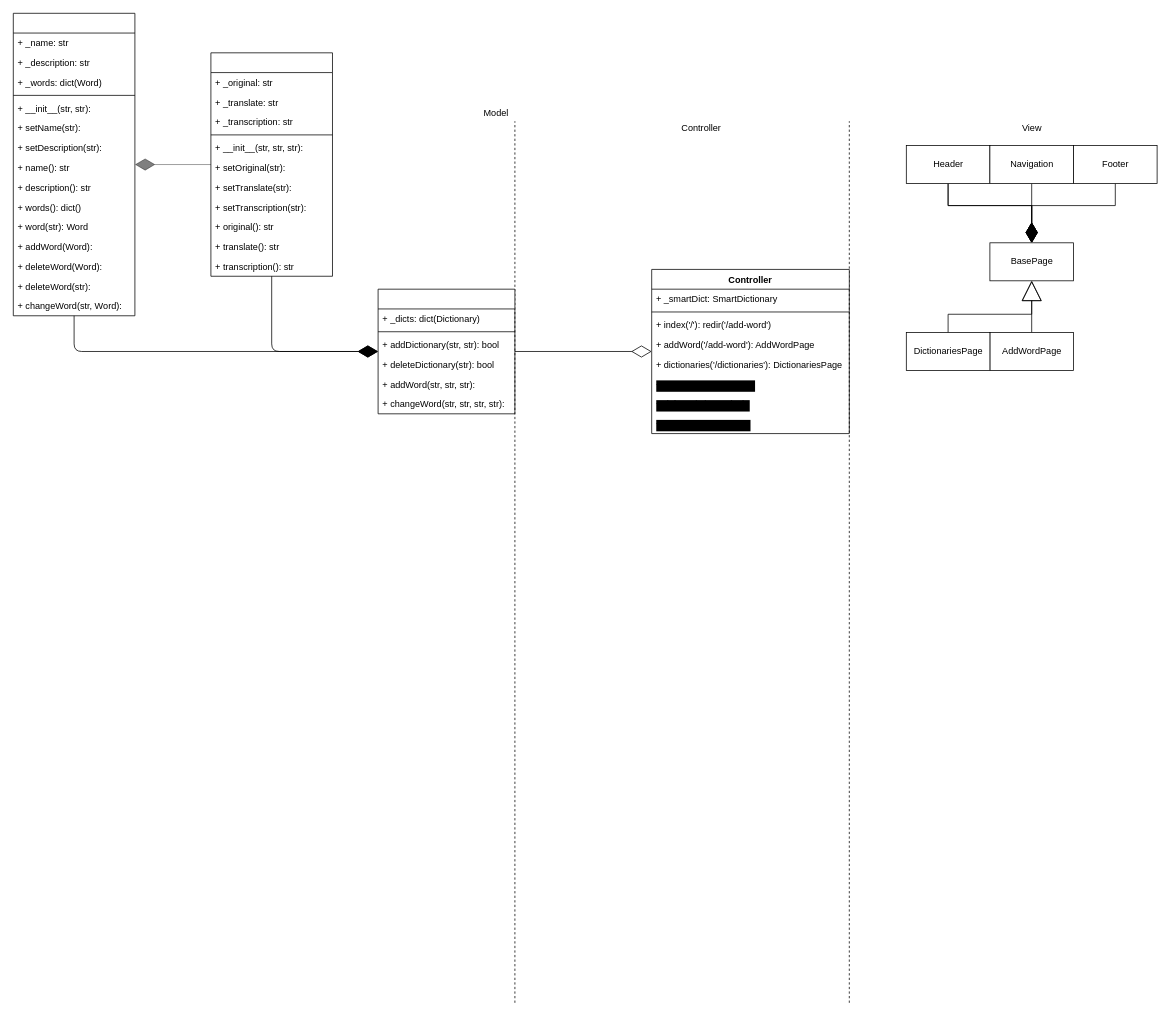
This 1170x1017 diagram has some shape labels left out. Here are the shapes that lost their labels. From the top down, the box of each, then its label:
(13, 13, 135, 316): Dictionary
(210, 52, 332, 276): Word
(377, 288, 515, 414): SmartDictionary
